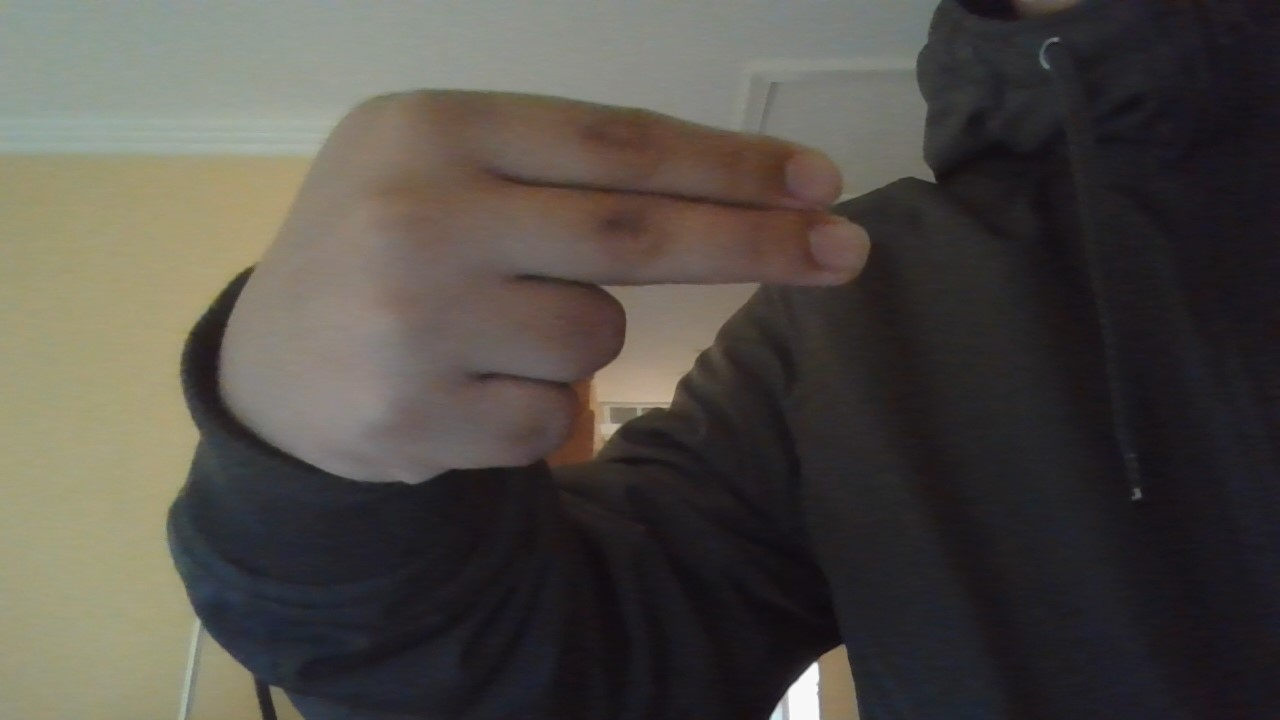h: (139, 51, 929, 520)
